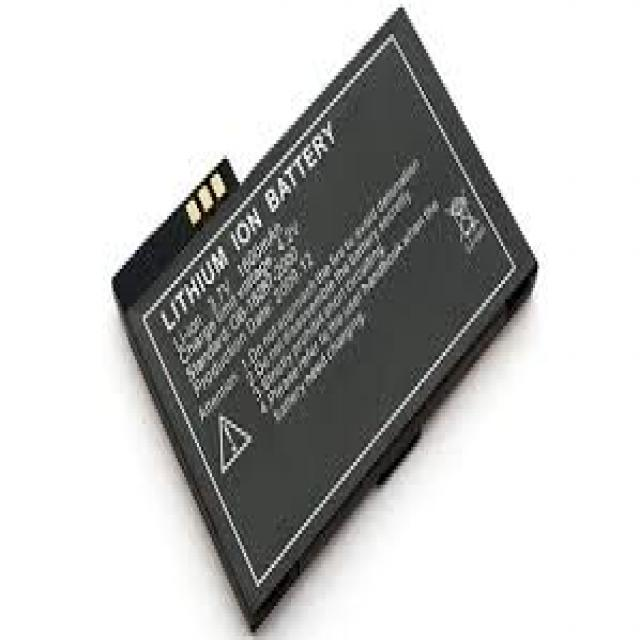non-organic waste: (111, 5, 538, 632)
